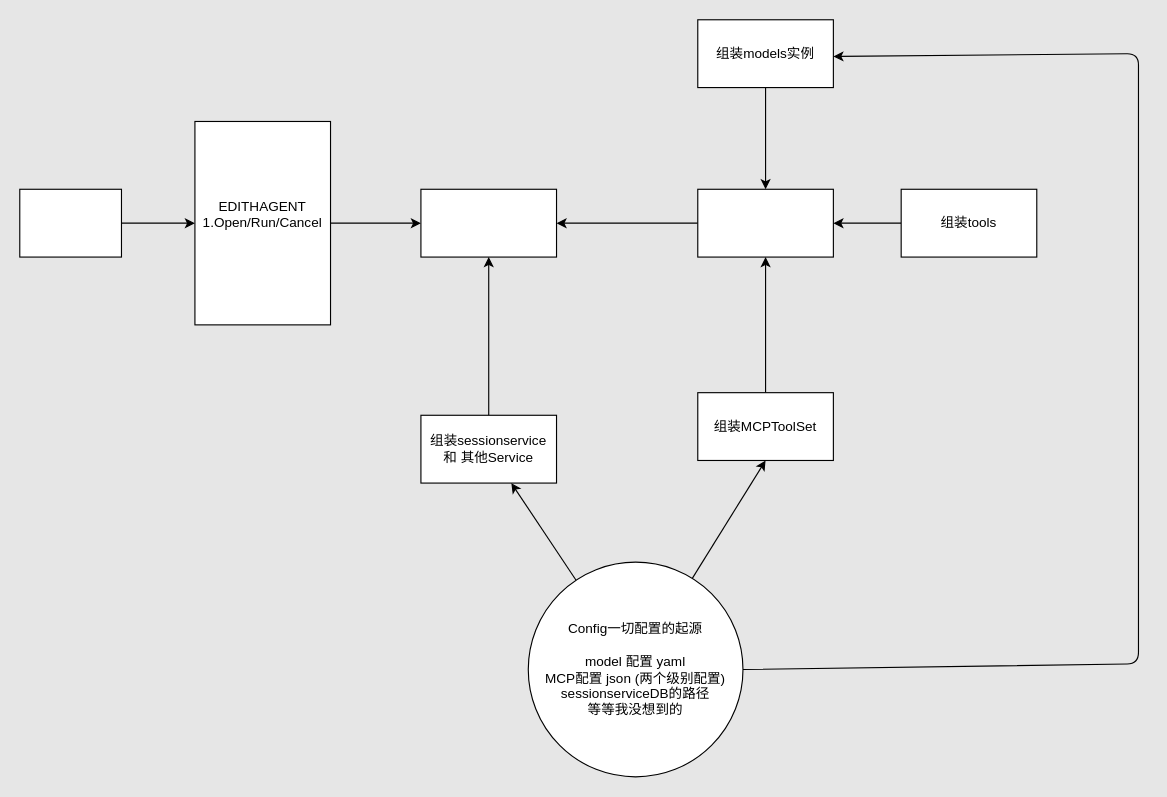
The diagram is 1167 pixels wide and 797 high, and some of its shapes have lost their labels. The shapes that lost their labels are listed below. From the top down, each one's centre as x and y in pixels, then its label:
pixel 70 222: studio
pixel 488 222: Runner
pixel 765 222: 组装Agent
